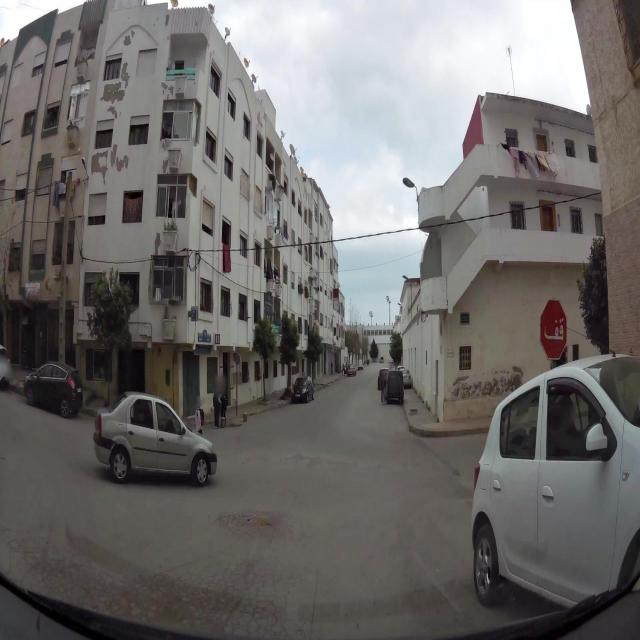car: (470, 351, 640, 623), (92, 390, 218, 487), (23, 359, 84, 418), (383, 367, 405, 405), (291, 374, 315, 404), (0, 342, 12, 390), (377, 366, 389, 392), (402, 368, 413, 389), (346, 362, 356, 378), (357, 358, 364, 370)
